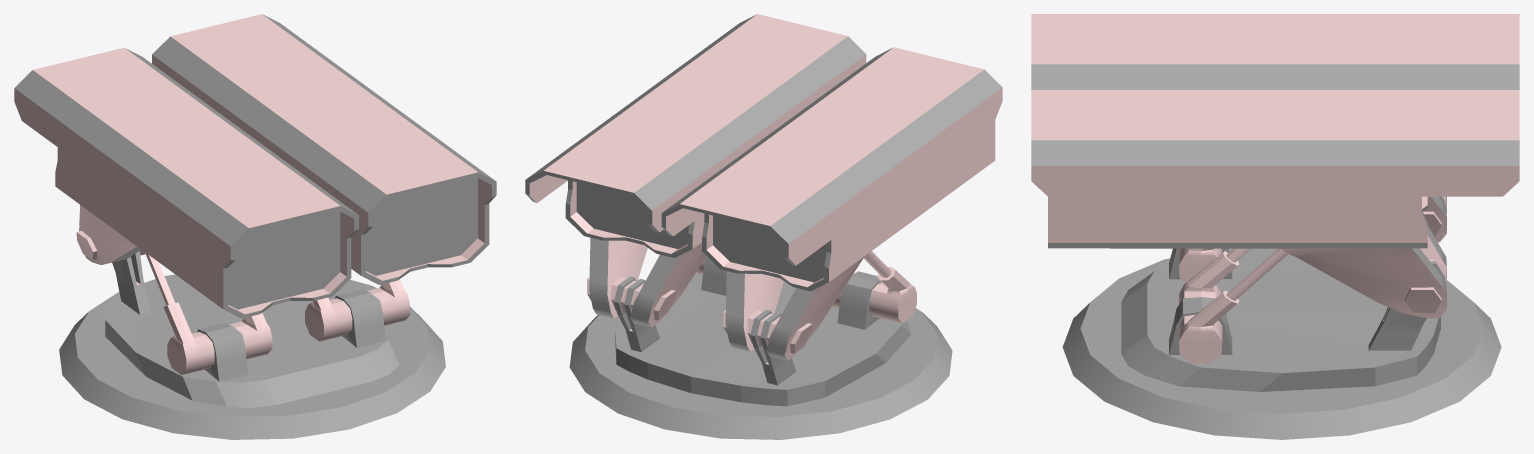
File: SM_AircraftGun_low.fbx
3 views of the same model, side by side, from view 1: azimuth 30°, elevation 25°; view 2: azimuth 150°, elevation 25°; view 3: azimuth 270°, elevation 25° (orthographic). The views are drawn at different scales.
Visible parts, largest first — view 1: GEOM_AAGun1; view 2: GEOM_AAGun1; view 3: GEOM_AAGun1.
Boxes of the visible parts, x1,y1,x2,y2 form: GEOM_AAGun1: (14, 14, 496, 439); GEOM_AAGun1: (525, 14, 1002, 439); GEOM_AAGun1: (1031, 14, 1519, 439).
Bounding box in the file's own units: 76.14 × 51.68 × 84.7.
